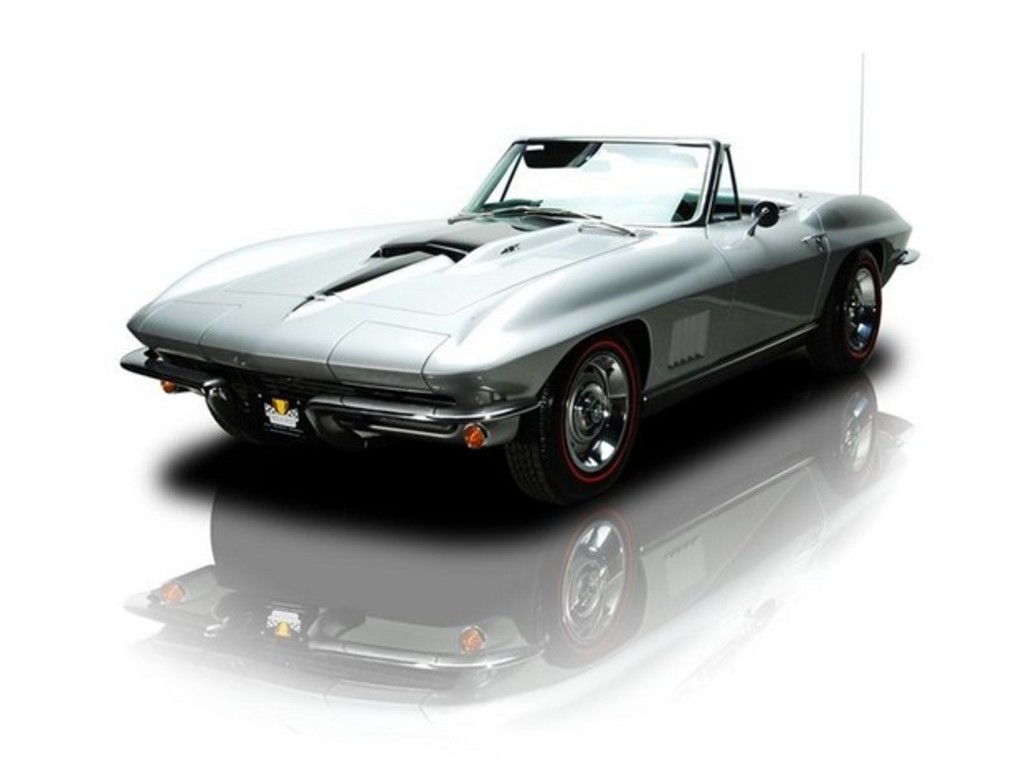mobil: (150, 130, 947, 539)
